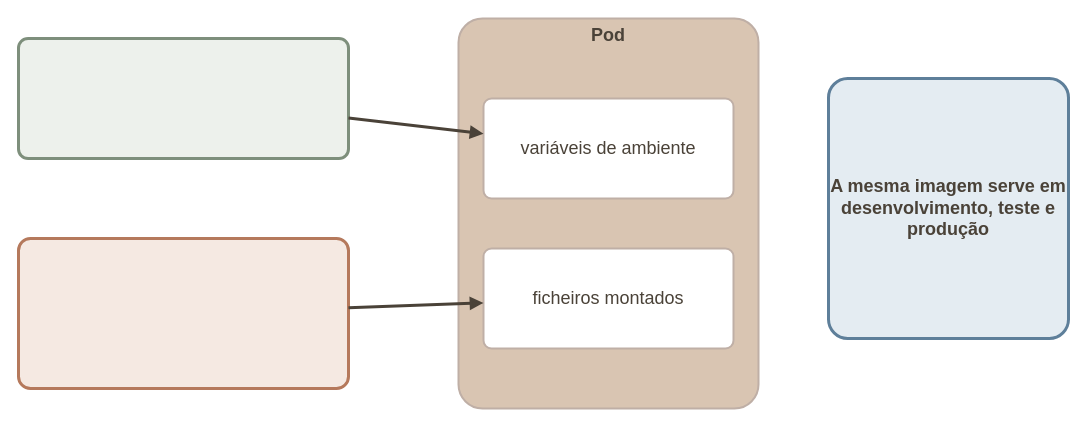
Image size: 1087x426. Some labels were removed from this diagram. The centre of each missing label's shape, as x and y in pixels:
ConfigMap configuração não sensível: (x=183, y=98)
Secret dados sensíveis (base64, não cifrado por omissão): (x=183, y=313)
